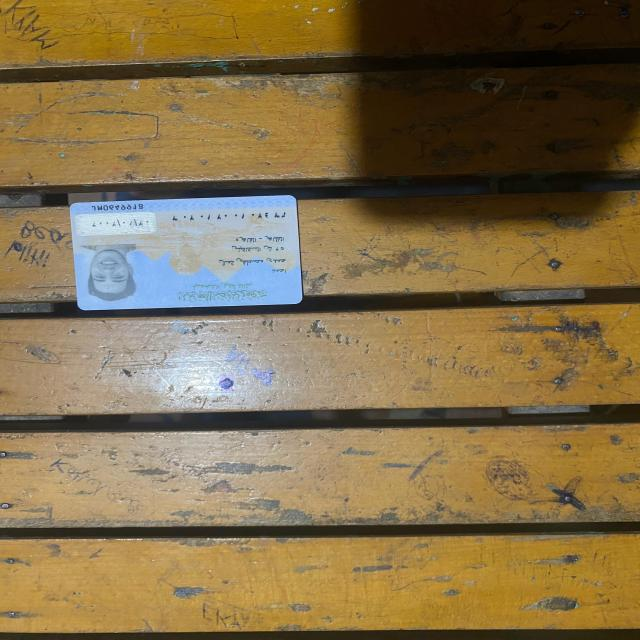ID-cards: (63, 189, 320, 317)
